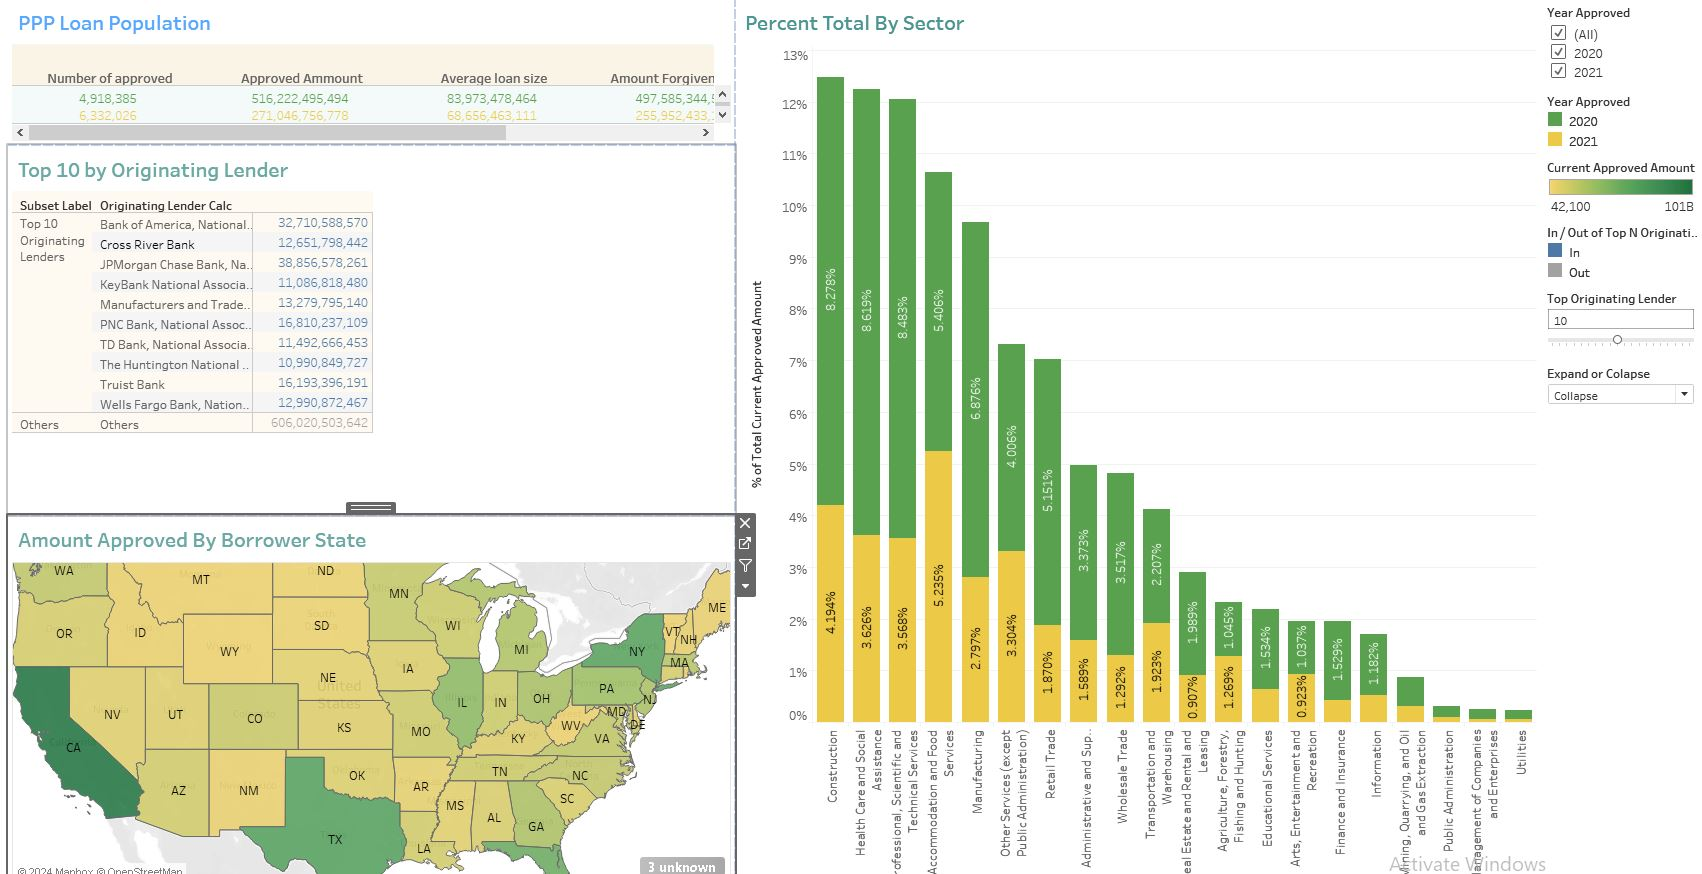

The page's visual inventory and layout, read from the dashboard file:
{"tool":"tableau","page":{"name":"PPP Summary Dashboard","canvas":[1000,1000],"units":"permille","ordinal":0},"visuals":[{"type":"worksheet","title":"PPP_Loan_Population","mark":"Automatic","box":[4.6,8.8,426.5,162.6]},{"type":"worksheet","title":"Percent_Total_by_Sector","mark":"Automatic","rows":["Current_Approved_Amount"],"cols":["Sector"],"box":[431.1,8.8,472.9,982.3]},{"type":"filter","title":"Percent_Total_by_Sector","param":"[federated.1ct5usn0yacwa81aoe80p16nf6ik].[none:year_approved:ok]","box":[904,8.8,91.5,98.5]},{"type":"legend","title":"Percent_Total_by_Sector","param":"[federated.1ct5usn0yacwa81aoe80p16nf6ik].[none:year_approved:ok]","box":[904,107.3,91.5,73]},{"type":"worksheet","title":"Top_15_By_Originating_Lender","mark":"Automatic","rows":["Top N Originating Lender by Current Approved Amount","Calculation_398287103032647680","Calculation_398287103037812737"],"box":[4.6,171.5,426.5,409.9]},{"type":"legend","title":"Amount_Approved_By_Borrower_State","param":"[federated.1ct5usn0yacwa81aoe80p16nf6ik].[sum:Current_Approved_Amount:qk]","box":[904,180.3,91.5,71.9]},{"type":"legend","title":"Top_15_By_Originating_Lender","param":"[federated.1ct5usn0yacwa81aoe80p16nf6ik].[io:Top N Originating Lender by Current","box":[904,252.2,91.5,73]},{"type":"parameter","param":"[Parameters].[Parameter 1]","box":[904,325.2,91.5,83]},{"type":"parameter","param":"[Parameters].[Parameter 2]","box":[904,408.2,91.5,57.5]},{"type":"worksheet","title":"Amount_Approved_By_Borrower_State","mark":"Automatic","box":[4.6,581.3,426.5,409.9]}]}

Visuals, with their boxes on the dashboard's canvas, which has no fixed pixel size, in thousandths of its width and height (x1, y1, x2, y2). These are canvas units, not pixel positions in the 1702x874 screenshot, which may show the page scaled, cropped or inside an application window:
"PPP_Loan_Population" worksheet: select_region(5, 9, 431, 171)
"Percent_Total_by_Sector" worksheet: select_region(431, 9, 904, 991)
"Percent_Total_by_Sector" filter: select_region(904, 9, 996, 107)
"Percent_Total_by_Sector" legend: select_region(904, 107, 996, 180)
"Top_15_By_Originating_Lender" worksheet: select_region(5, 172, 431, 581)
"Amount_Approved_By_Borrower_State" legend: select_region(904, 180, 996, 252)
"Top_15_By_Originating_Lender" legend: select_region(904, 252, 996, 325)
parameter: select_region(904, 325, 996, 408)
parameter: select_region(904, 408, 996, 466)
"Amount_Approved_By_Borrower_State" worksheet: select_region(5, 581, 431, 991)
